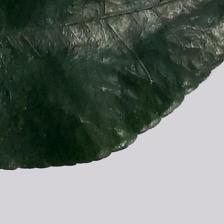healthy: (1, 2, 224, 147)
